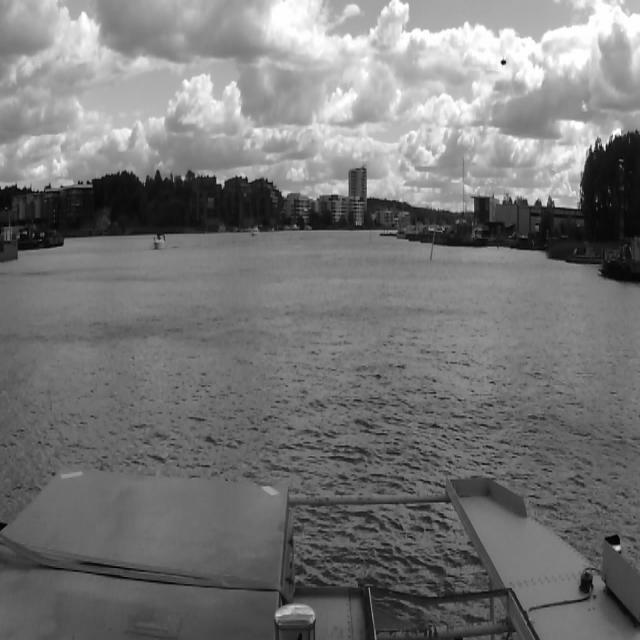ship: (249, 224, 262, 244), (154, 231, 164, 252)
